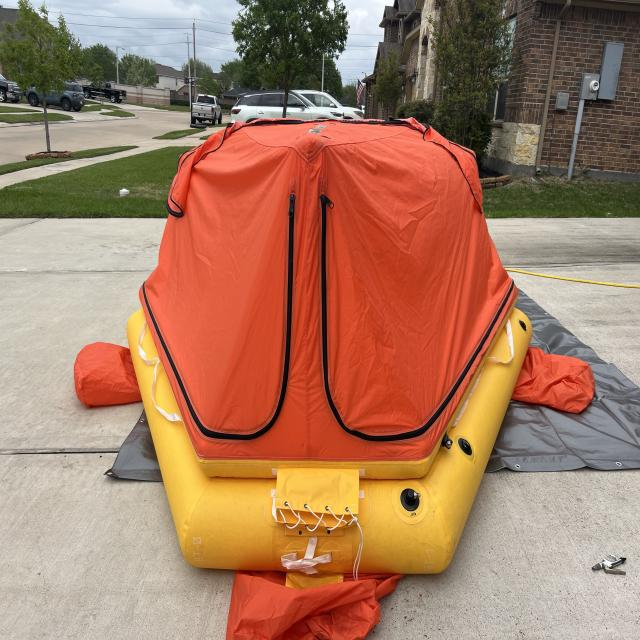Multi-person_life_raft: (74, 116, 594, 639)
